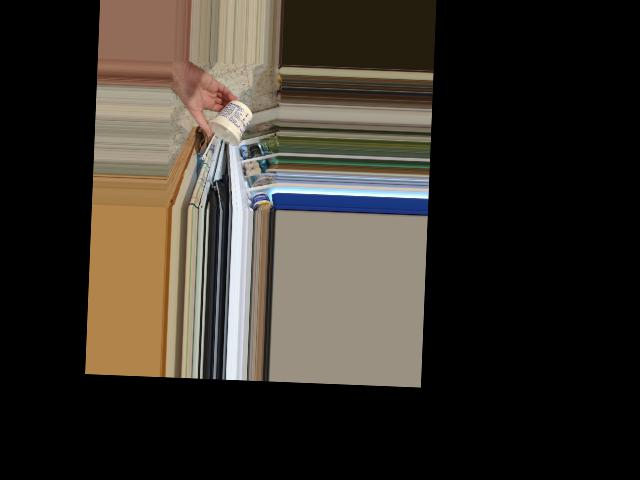cotage: (204, 99, 247, 140)
